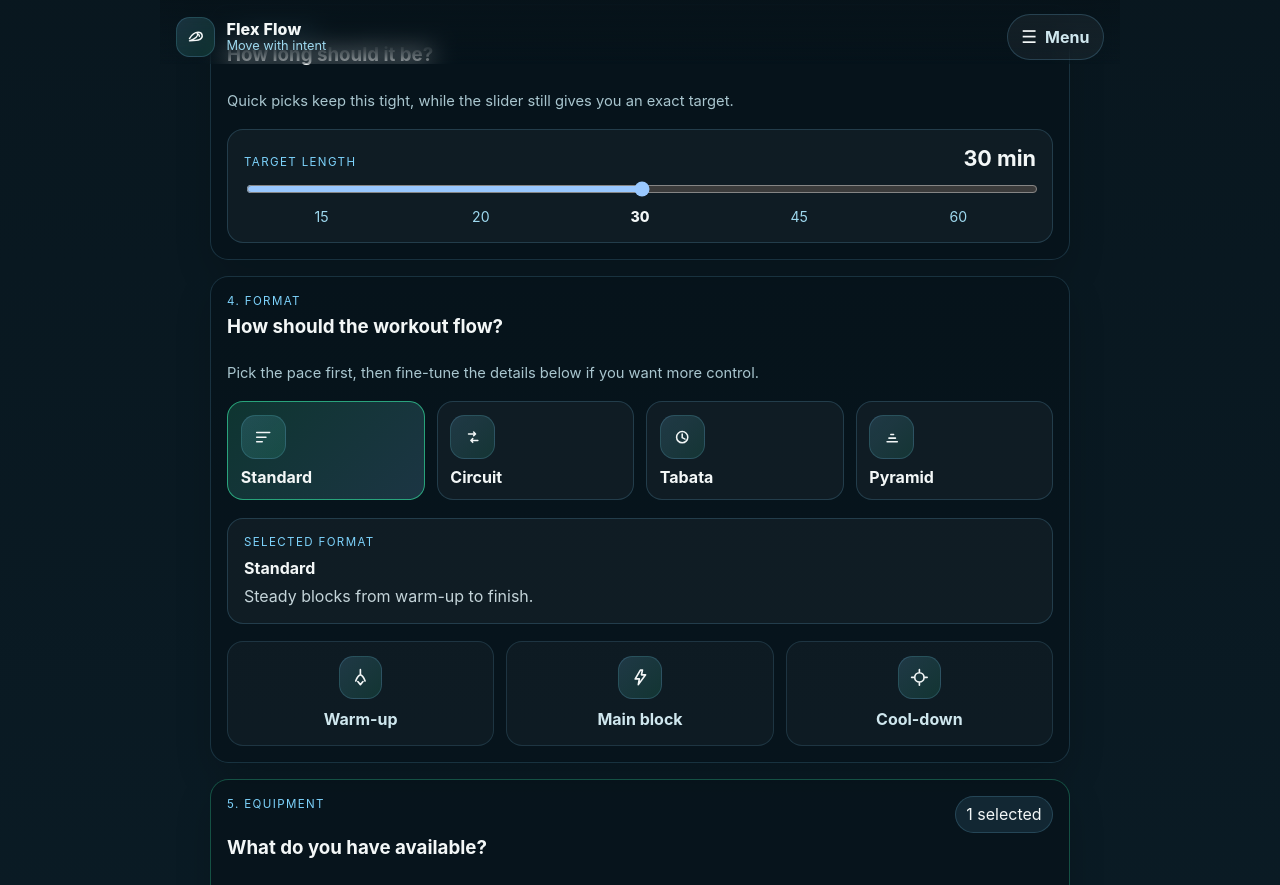
Test: App shell routing › generates a workout from the builder, persists it, and hands off to the summary route
The image size is (1280, 885).
(page scrolled)
Click the button "Tabata": (745, 451) [646,401,844,500]
(page scrolled)
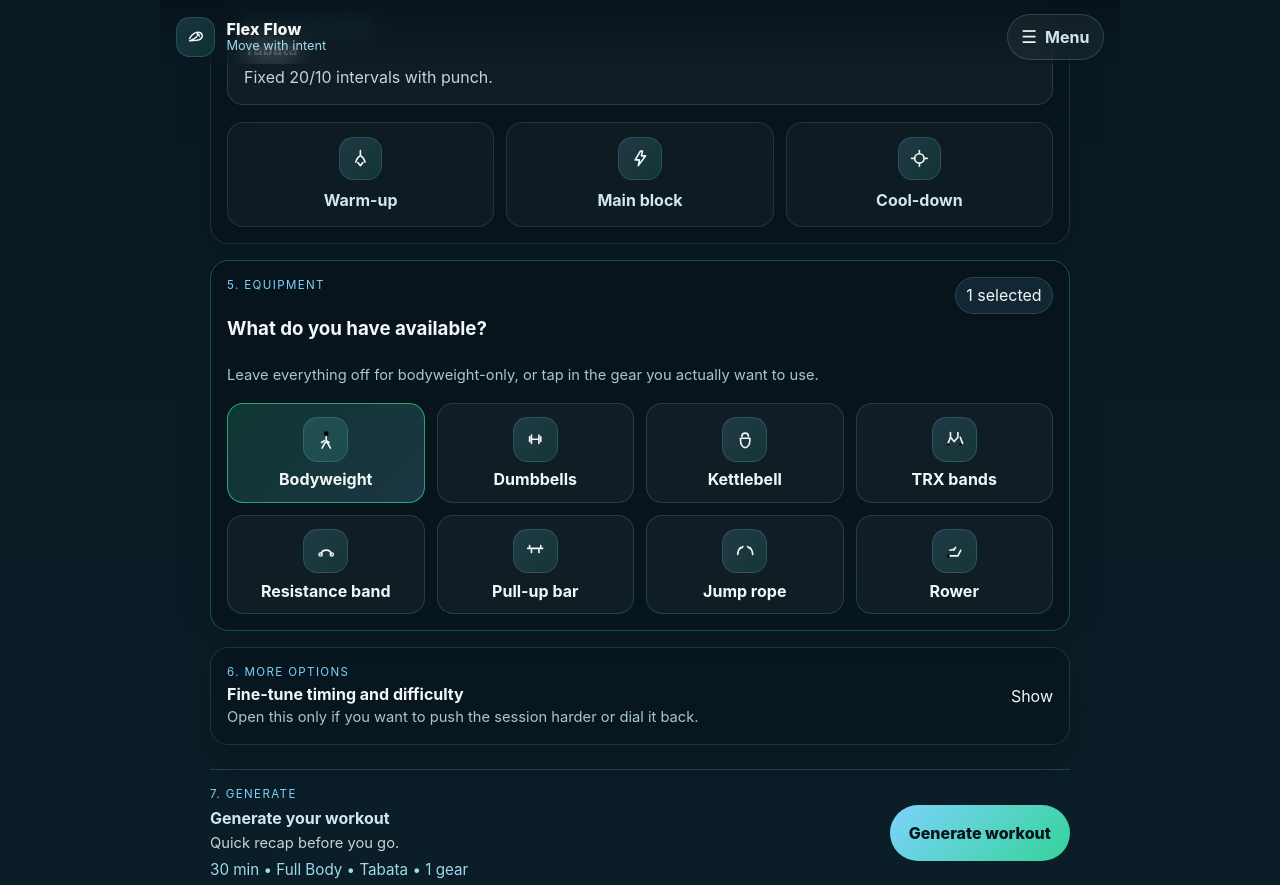
Click the button "Generate workout": (980, 833) [890,805,1070,861]
(page scrolled)
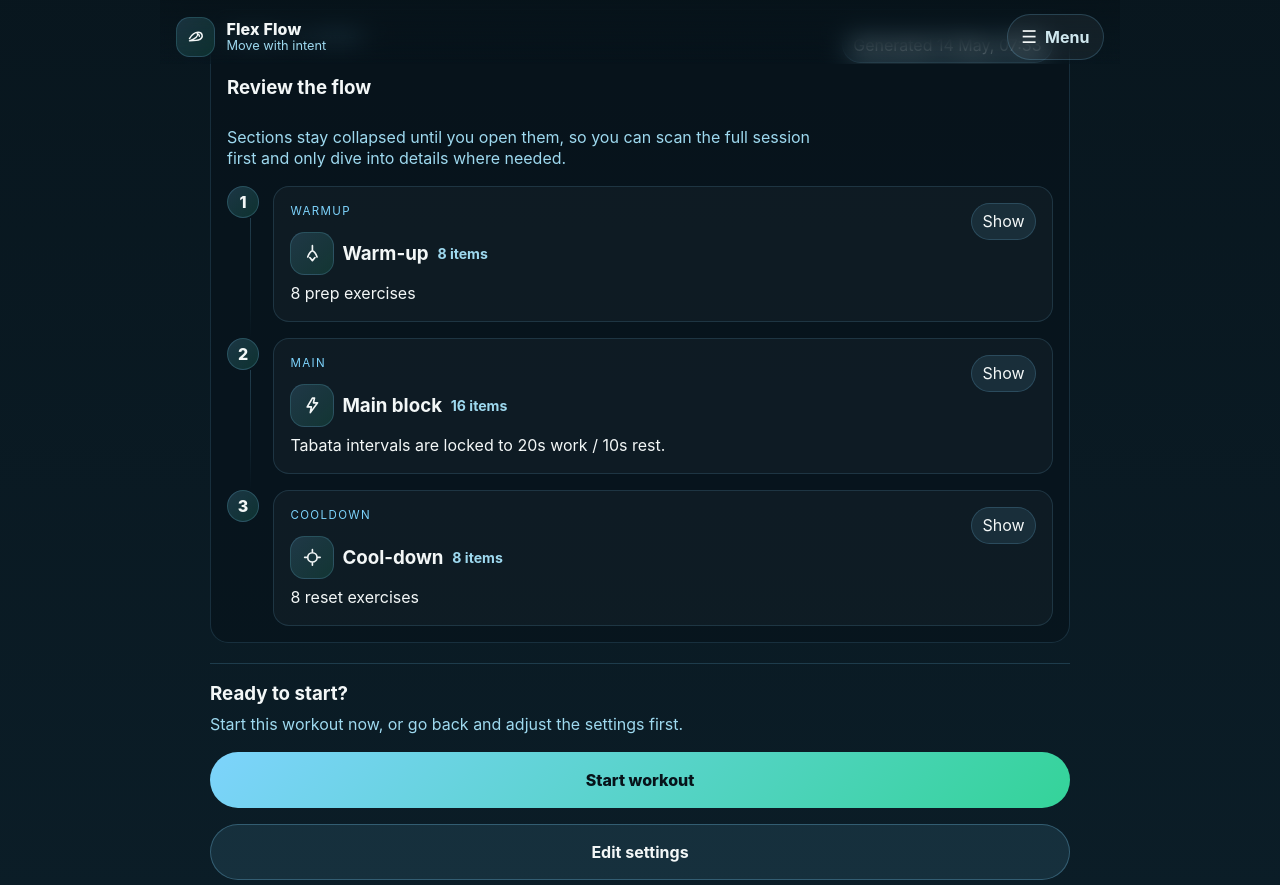
Expected: the heading "Review the flow" is shown, [227,76,371,99]
Expected: the button "Start workout" is shown, [210,752,1070,808]
